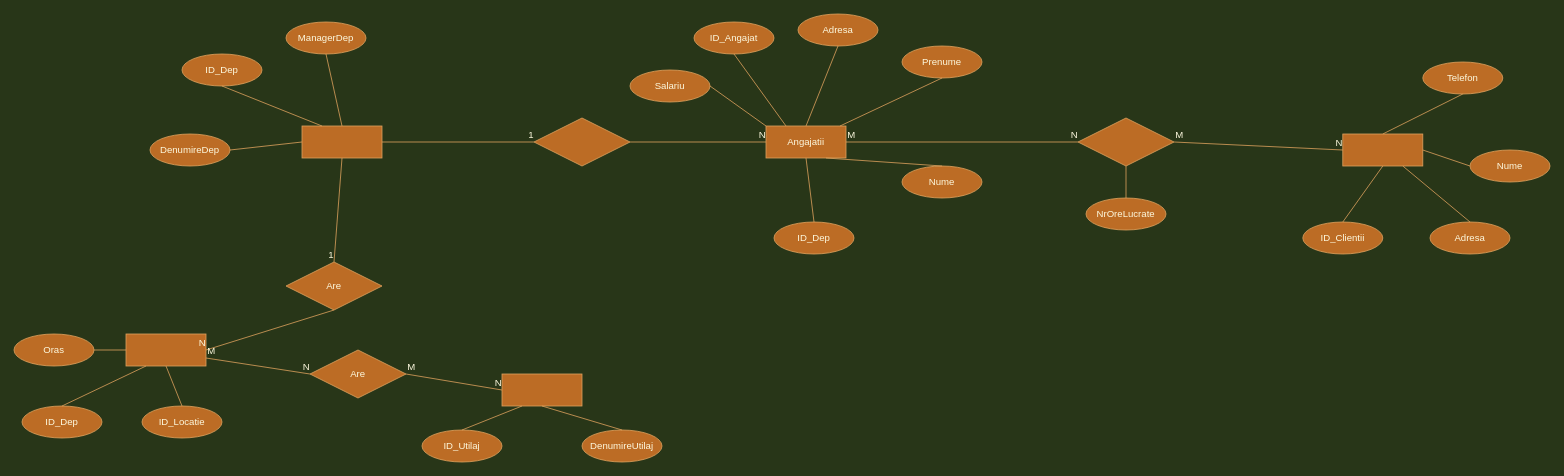
This 1564x476 diagram has some shape labels left out. Here are the shapes that lost their labels. From the top down, the box of each, then its label:
(301, 125, 382, 158): Departament
(533, 117, 630, 166): Lucreaza
(1077, 117, 1174, 166): Servicii
(1342, 133, 1423, 166): Clientii
(125, 333, 206, 366): Locatii
(501, 373, 582, 406): Utilaj
